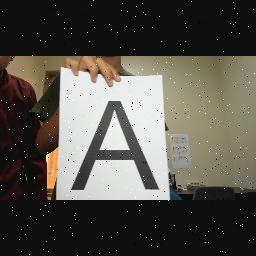a: (64, 95, 168, 199)
